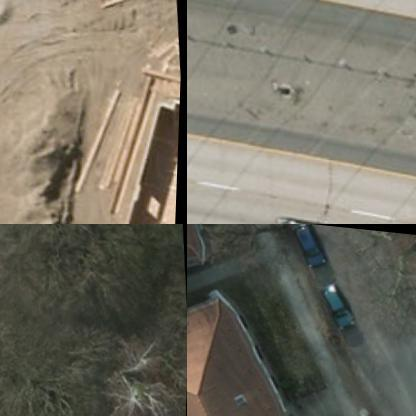car: (323, 271, 368, 327), (273, 199, 348, 223), (291, 224, 333, 264)
